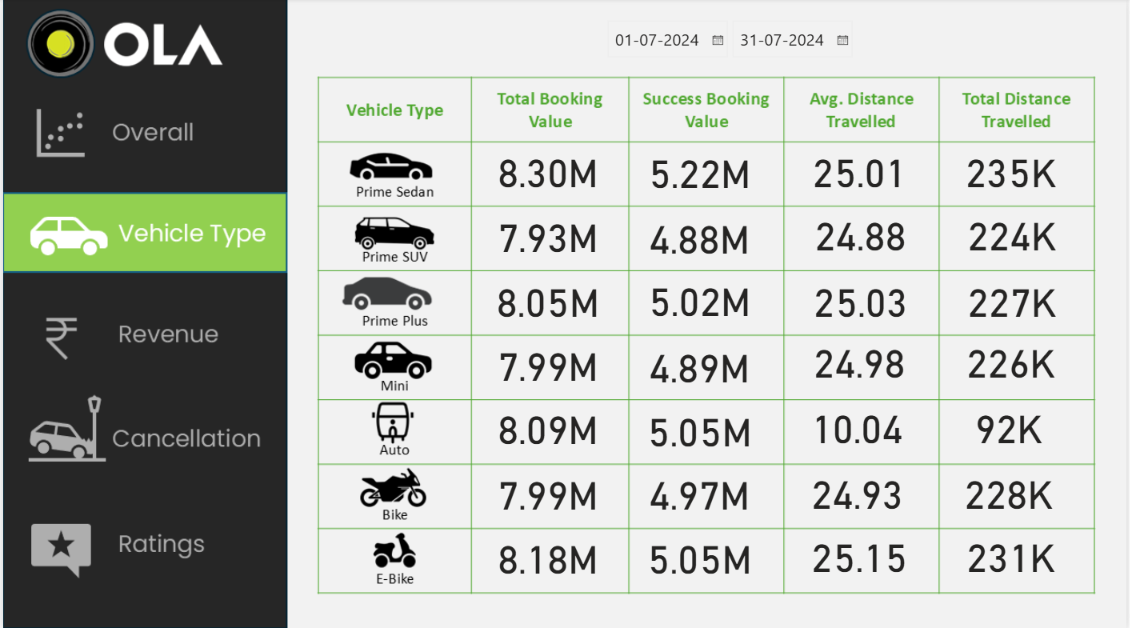

This screenshot's page, from the dashboard's own definition file:
{"tool":"powerbi","page":{"name":"Vehicle Type","canvas":[1280,720],"ordinal":1},"visuals":[{"type":"actionButton","box":[0,340,325.2,92.6],"z":0},{"type":"actionButton","box":[0,224.7,323.2,90.7],"z":1000},{"type":"actionButton","box":[0,449.3,323.2,92.6],"z":2000},{"type":"actionButton","box":[0,580.4,323.2,91.6],"z":3000},{"type":"actionButton","box":[0,112.3,323.2,82.8],"z":4000},{"type":"card","fields":{"Values":["Sum(OlaData.Booking_Value)"]},"box":[543.9,157.6,153,72.7],"z":5000},{"type":"card","fields":{"Values":["Sum(OlaData.Booking_Value)"]},"box":[543.9,231.8,153,72.7],"z":6000},{"type":"card","fields":{"Values":["Sum(OlaData.Booking_Value)"]},"box":[543.9,306.1,153,72.7],"z":7000},{"type":"card","fields":{"Values":["Sum(OlaData.Booking_Value)"]},"box":[543.9,378.8,153,72.7],"z":8000},{"type":"card","fields":{"Values":["Sum(OlaData.Booking_Value)"]},"box":[543.9,451.5,153,72.7],"z":9000},{"type":"card","fields":{"Values":["Sum(OlaData.Booking_Value)"]},"box":[543.9,525.8,153,72.7],"z":10000},{"type":"card","fields":{"Values":["Sum(OlaData.Booking_Value)"]},"box":[543.9,598.5,153,72.7],"z":11000},{"type":"card","fields":{"Values":["Sum(OlaData.Booking_Value)"]},"box":[716.7,159.1,153,72.7],"z":12000},{"type":"card","fields":{"Values":["Sum(OlaData.Booking_Value)"]},"box":[716.7,233.3,153,72.7],"z":13000},{"type":"card","fields":{"Values":["Sum(OlaData.Booking_Value)"]},"box":[716.7,304.5,153,72.7],"z":14000},{"type":"card","fields":{"Values":["Sum(OlaData.Booking_Value)"]},"box":[716.7,380.3,153,72.7],"z":15000},{"type":"card","fields":{"Values":["Sum(OlaData.Booking_Value)"]},"box":[716.7,453,153,72.7],"z":16000},{"type":"card","fields":{"Values":["Sum(OlaData.Booking_Value)"]},"box":[716.7,525.8,153,72.7],"z":17000},{"type":"card","fields":{"Values":["Sum(OlaData.Booking_Value)"]},"box":[716.7,598.5,153,72.7],"z":18000},{"type":"card","fields":{"Values":["Avg(OlaData.Ride_Distance)"]},"box":[900,177.3,150,54.5],"z":19000},{"type":"card","fields":{"Values":["Avg(OlaData.Ride_Distance)"]},"box":[901.5,250,150,54.5],"z":20000},{"type":"card","fields":{"Values":["Avg(OlaData.Ride_Distance)"]},"box":[901.5,325.8,150,54.5],"z":21000},{"type":"card","fields":{"Values":["Avg(OlaData.Ride_Distance)"]},"box":[900,395.5,150,54.5],"z":22000},{"type":"card","fields":{"Values":["Avg(OlaData.Ride_Distance)"]},"box":[898.5,469.7,150,54.5],"z":23000},{"type":"card","fields":{"Values":["Avg(OlaData.Ride_Distance)"]},"box":[898.5,543.9,150,54.5],"z":24000},{"type":"card","fields":{"Values":["Avg(OlaData.Ride_Distance)"]},"box":[900,616.7,150,54.5],"z":25000},{"type":"card","fields":{"Values":["Sum(OlaData.Ride_Distance)"]},"box":[1072.6,177.2,150,54.5],"z":26000},{"type":"card","fields":{"Values":["Sum(OlaData.Ride_Distance)"]},"box":[1074.1,249.9,150,54.5],"z":27000},{"type":"card","fields":{"Values":["Sum(OlaData.Ride_Distance)"]},"box":[1074.1,325.7,150,54.5],"z":28000},{"type":"card","fields":{"Values":["Sum(OlaData.Ride_Distance)"]},"box":[1072.6,395.4,150,54.5],"z":29000},{"type":"card","fields":{"Values":["Sum(OlaData.Ride_Distance)"]},"box":[1071.1,469.6,150,54.5],"z":30000},{"type":"card","fields":{"Values":["Sum(OlaData.Ride_Distance)"]},"box":[1071.1,543.8,150,54.5],"z":31000},{"type":"card","fields":{"Values":["Sum(OlaData.Ride_Distance)"]},"box":[1072.6,616.6,150,54.5],"z":32000},{"type":"slicer","fields":{"Values":["OlaData.Date"]},"box":[675.8,15.2,301.5,59.1],"z":33000}]}

Visuals, with their boxes on the page's 1280x720 design canvas (x1, y1, x2, y2). These are canvas units, not pixel positions in the 1130x628 screenshot, which may show the page scaled, cropped or inside an application window:
actionButton: {"x1": 0, "y1": 340, "x2": 325, "y2": 433}
actionButton: {"x1": 0, "y1": 225, "x2": 323, "y2": 315}
actionButton: {"x1": 0, "y1": 449, "x2": 323, "y2": 542}
actionButton: {"x1": 0, "y1": 580, "x2": 323, "y2": 672}
actionButton: {"x1": 0, "y1": 112, "x2": 323, "y2": 195}
card - Sum(OlaData.Booking_Value): {"x1": 544, "y1": 158, "x2": 697, "y2": 230}
card - Sum(OlaData.Booking_Value): {"x1": 544, "y1": 232, "x2": 697, "y2": 304}
card - Sum(OlaData.Booking_Value): {"x1": 544, "y1": 306, "x2": 697, "y2": 379}
card - Sum(OlaData.Booking_Value): {"x1": 544, "y1": 379, "x2": 697, "y2": 452}
card - Sum(OlaData.Booking_Value): {"x1": 544, "y1": 452, "x2": 697, "y2": 524}
card - Sum(OlaData.Booking_Value): {"x1": 544, "y1": 526, "x2": 697, "y2": 598}
card - Sum(OlaData.Booking_Value): {"x1": 544, "y1": 598, "x2": 697, "y2": 671}
card - Sum(OlaData.Booking_Value): {"x1": 717, "y1": 159, "x2": 870, "y2": 232}
card - Sum(OlaData.Booking_Value): {"x1": 717, "y1": 233, "x2": 870, "y2": 306}
card - Sum(OlaData.Booking_Value): {"x1": 717, "y1": 304, "x2": 870, "y2": 377}
card - Sum(OlaData.Booking_Value): {"x1": 717, "y1": 380, "x2": 870, "y2": 453}
card - Sum(OlaData.Booking_Value): {"x1": 717, "y1": 453, "x2": 870, "y2": 526}
card - Sum(OlaData.Booking_Value): {"x1": 717, "y1": 526, "x2": 870, "y2": 598}
card - Sum(OlaData.Booking_Value): {"x1": 717, "y1": 598, "x2": 870, "y2": 671}
card - Avg(OlaData.Ride_Distance): {"x1": 900, "y1": 177, "x2": 1050, "y2": 232}
card - Avg(OlaData.Ride_Distance): {"x1": 902, "y1": 250, "x2": 1052, "y2": 304}
card - Avg(OlaData.Ride_Distance): {"x1": 902, "y1": 326, "x2": 1052, "y2": 380}
card - Avg(OlaData.Ride_Distance): {"x1": 900, "y1": 396, "x2": 1050, "y2": 450}
card - Avg(OlaData.Ride_Distance): {"x1": 898, "y1": 470, "x2": 1048, "y2": 524}
card - Avg(OlaData.Ride_Distance): {"x1": 898, "y1": 544, "x2": 1048, "y2": 598}
card - Avg(OlaData.Ride_Distance): {"x1": 900, "y1": 617, "x2": 1050, "y2": 671}
card - Sum(OlaData.Ride_Distance): {"x1": 1073, "y1": 177, "x2": 1223, "y2": 232}
card - Sum(OlaData.Ride_Distance): {"x1": 1074, "y1": 250, "x2": 1224, "y2": 304}
card - Sum(OlaData.Ride_Distance): {"x1": 1074, "y1": 326, "x2": 1224, "y2": 380}
card - Sum(OlaData.Ride_Distance): {"x1": 1073, "y1": 395, "x2": 1223, "y2": 450}
card - Sum(OlaData.Ride_Distance): {"x1": 1071, "y1": 470, "x2": 1221, "y2": 524}
card - Sum(OlaData.Ride_Distance): {"x1": 1071, "y1": 544, "x2": 1221, "y2": 598}
card - Sum(OlaData.Ride_Distance): {"x1": 1073, "y1": 617, "x2": 1223, "y2": 671}
slicer - OlaData.Date: {"x1": 676, "y1": 15, "x2": 977, "y2": 74}
